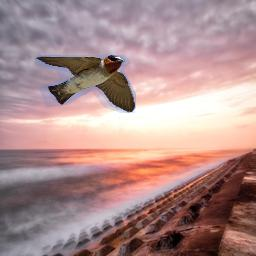Swallow: (35, 55, 136, 113)
